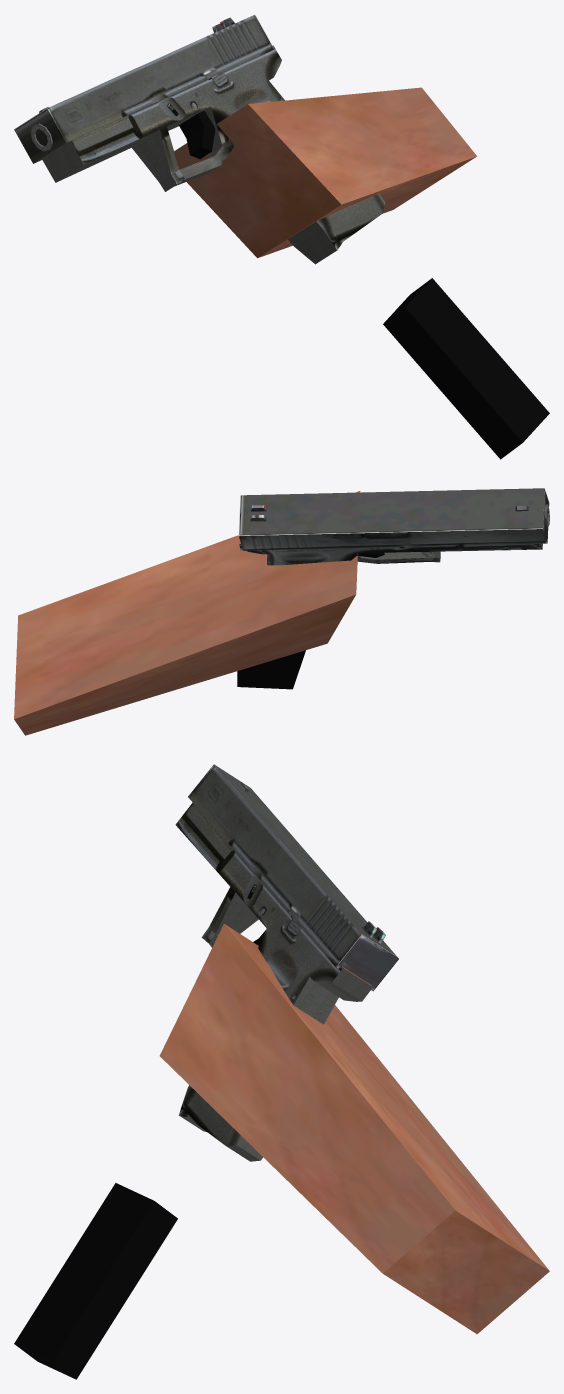
The model's file is pistol_000025.obj.
3 renders of one model, top to bottom at view 1: azimuth 30°, elevation 25°; view 2: azimuth 150°, elevation 25°; view 3: azimuth 270°, elevation 25°, orthographic. The views are drawn at different scales.
Visible parts, largest first — view 1: Cube, Cube.002, Cube.001, Cube.003; view 2: Cube, Cube.001, Cube.002; view 3: Cube, Cube.002, Cube.001.
Part boxes in pixels (x1,y1,x2,y2): Cube: [30, 45, 476, 264]; Cube.002: [383, 278, 549, 459]; Cube.001: [14, 14, 274, 163]; Cube.003: [179, 110, 215, 159]; Cube: [14, 491, 549, 735]; Cube.001: [238, 488, 549, 550]; Cube.002: [237, 650, 305, 689]; Cube: [159, 802, 549, 1334]; Cube.002: [14, 1183, 177, 1379]; Cube.001: [188, 764, 398, 991].
Bounding box in the file's own units: 1.69 × 1.17 × 1.41.
